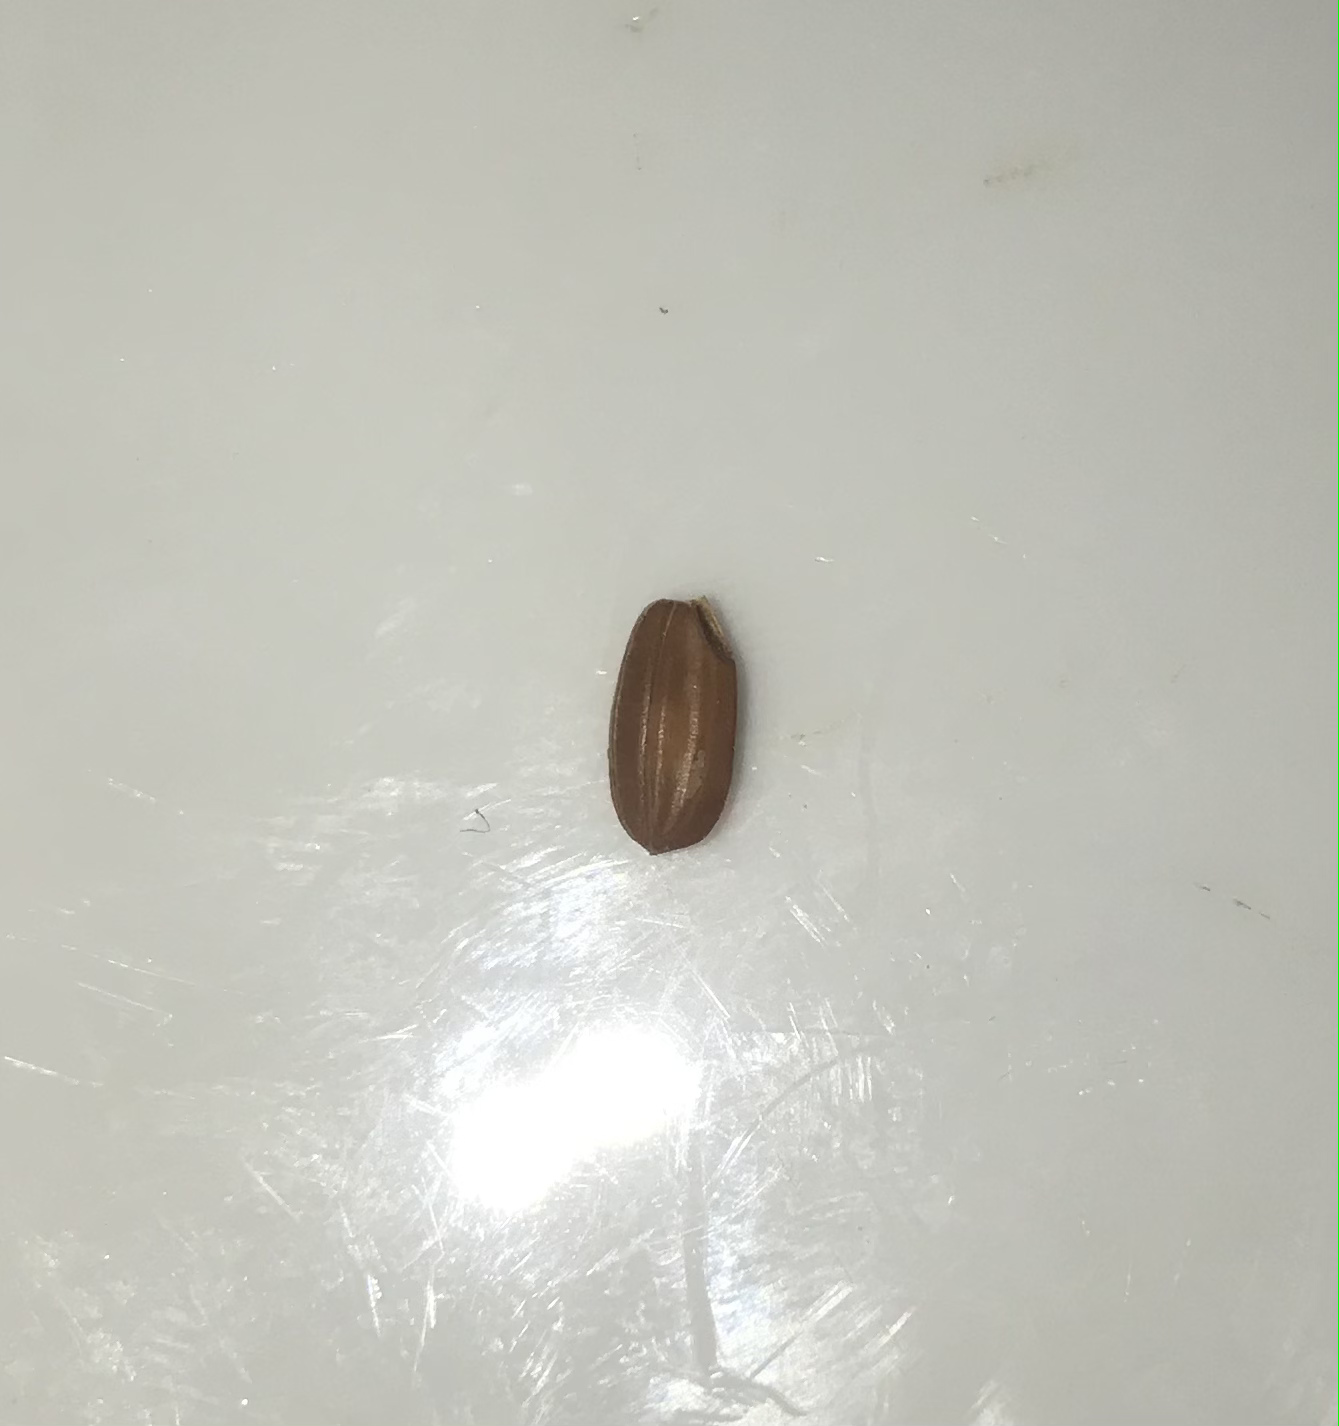Gao Lut Do: (585, 563, 782, 906)
